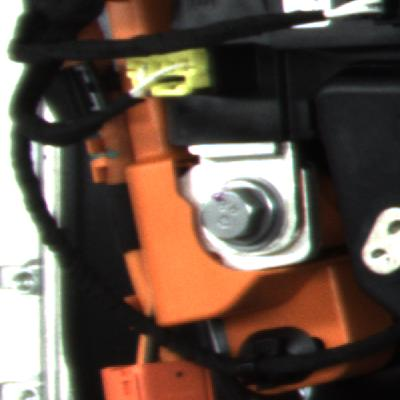nut_b: (186, 163, 295, 261)
